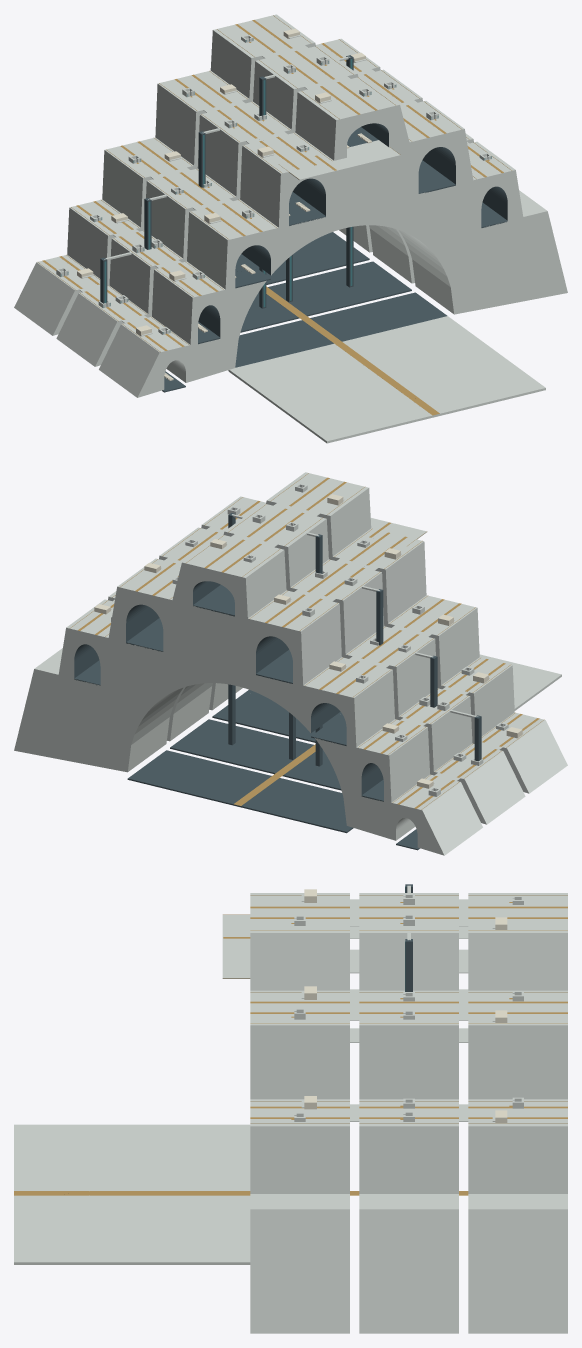
File: study.glb
The picture shows the model from 3 angles, top to bottom: view 1: azimuth 30°, elevation 25°; view 2: azimuth 150°, elevation 25°; view 3: azimuth 270°, elevation 25°; orthographic projection. The views are drawn at different scales.
Parts seen in each view (by area): view 1: C INHABITED LAND bay 0, C Arrival continuity floor, C INHABITED LAND bay 1, C INHABITED LAND bay 2, C main interior public floor 0, C main interior public floor 1, C main interior public floor 2, C3 ROOF TO C4 INTERIOR public threshold, C Arrival continuity street, C_East Civic Quarter internal floor bay 0, C3 High School Commons internal floor bay 0, C central ground civic promenade (+1 smaller); view 2: C INHABITED LAND bay 2, C INHABITED LAND bay 1, C INHABITED LAND bay 0, C main interior public floor 2, C main interior public floor 1, C main interior public floor 0, C Arrival continuity floor, C3 ROOF TO C4 INTERIOR public threshold, C4 Culture Sky Ground internal floor bay 2, C_East Civic Quarter internal floor bay 2, C3 High School Commons internal floor bay 2, C2 Thousandlight Market internal floor bay 2 (+3 smaller); view 3: C INHABITED LAND bay 0, C INHABITED LAND bay 2, C INHABITED LAND bay 1, C Arrival continuity floor, C3 ROOF TO C4 INTERIOR public threshold, C Arrival continuity street.
Boxes of the visible parts, x1,y1,x2,y2 form: C INHABITED LAND bay 0: (99, 76, 567, 397); C Arrival continuity floor: (228, 316, 545, 443); C INHABITED LAND bay 1: (56, 45, 473, 366); C INHABITED LAND bay 2: (14, 14, 380, 335); C main interior public floor 0: (228, 292, 447, 370); C main interior public floor 1: (240, 261, 411, 332); C main interior public floor 2: (240, 232, 369, 284); C3 ROOF TO C4 INTERIOR public threshold: (279, 140, 400, 180); C Arrival continuity street: (341, 346, 439, 415); C_East Civic Quarter internal floor bay 0: (418, 160, 455, 193); C3 High School Commons internal floor bay 0: (289, 192, 325, 225); C central ground civic promenade: (266, 286, 348, 348); C INHABITED LAND bay 2: (14, 534, 482, 855); C INHABITED LAND bay 1: (108, 503, 525, 824); C INHABITED LAND bay 0: (201, 472, 567, 793); C main interior public floor 2: (127, 750, 353, 833); C main interior public floor 1: (170, 719, 341, 790); C main interior public floor 0: (212, 690, 341, 742); C Arrival continuity floor: (479, 654, 561, 710); C3 ROOF TO C4 INTERIOR public threshold: (361, 518, 426, 546); C4 Culture Sky Ground internal floor bay 2: (193, 585, 234, 616); C_East Civic Quarter internal floor bay 2: (126, 618, 163, 651); C3 High School Commons internal floor bay 2: (256, 650, 292, 683); C2 Thousandlight Market internal floor bay 2: (311, 714, 346, 745); C INHABITED LAND bay 0: (250, 893, 349, 1333); C INHABITED LAND bay 2: (468, 893, 567, 1333); C INHABITED LAND bay 1: (359, 893, 458, 1333); C Arrival continuity floor: (14, 1124, 250, 1264); C3 ROOF TO C4 INTERIOR public threshold: (222, 915, 250, 978); C Arrival continuity street: (14, 1191, 250, 1195).
Size of the model in its own units: 4050 by 2126 by 3505.
